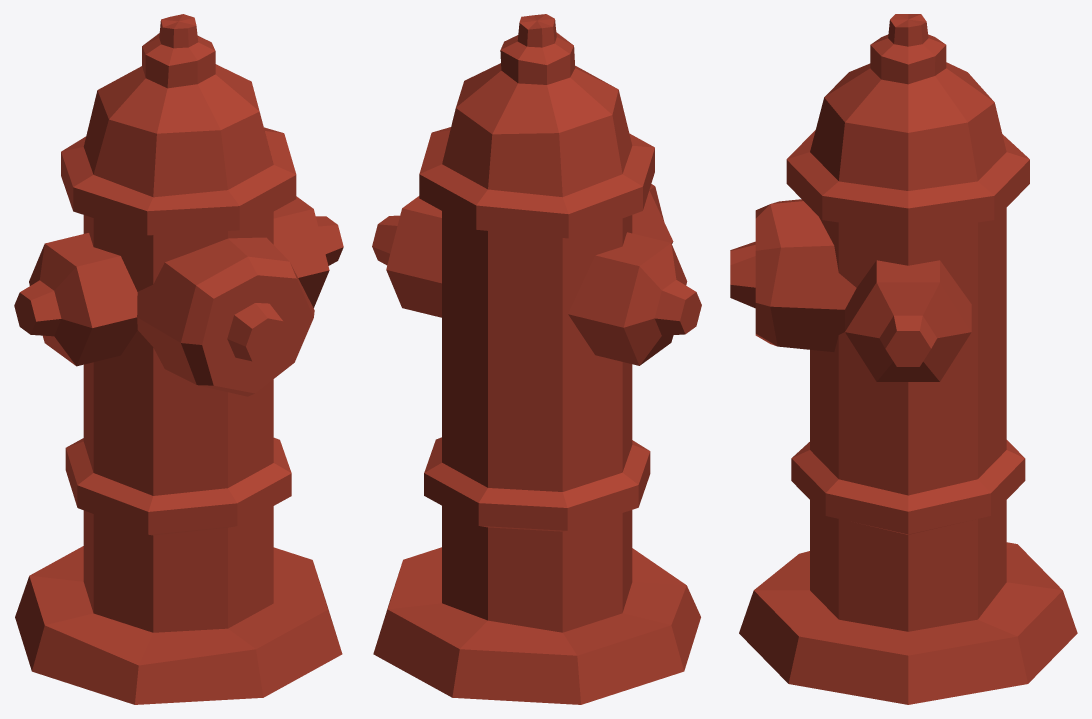
The model's file is SM_Prop_Hydrant_01.fbx.
3 views of the same model, side by side, from view 1: azimuth 30°, elevation 25°; view 2: azimuth 150°, elevation 25°; view 3: azimuth 270°, elevation 25° (orthographic).
Parts seen in each view (by area): view 1: SM_Prop_Hydrant_01; view 2: SM_Prop_Hydrant_01; view 3: SM_Prop_Hydrant_01.
Part boxes in pixels (x1,y1,x2,y2): SM_Prop_Hydrant_01: (14, 14, 343, 704); SM_Prop_Hydrant_01: (372, 14, 701, 704); SM_Prop_Hydrant_01: (730, 14, 1077, 704).
Bounding box in the file's own units: 55.12 × 105 × 54.04.
